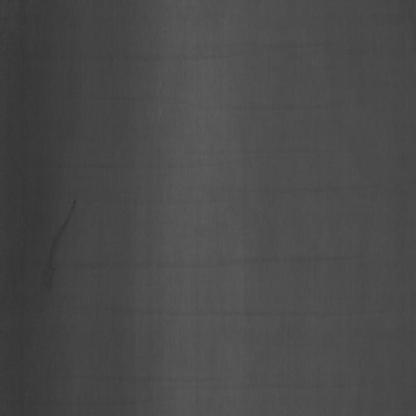water_spot: (30, 188, 87, 306)
